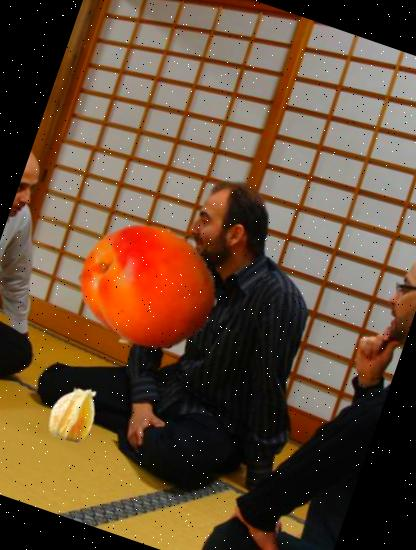Apricot: (59, 197, 238, 376)
Physalis: (37, 377, 109, 449)
